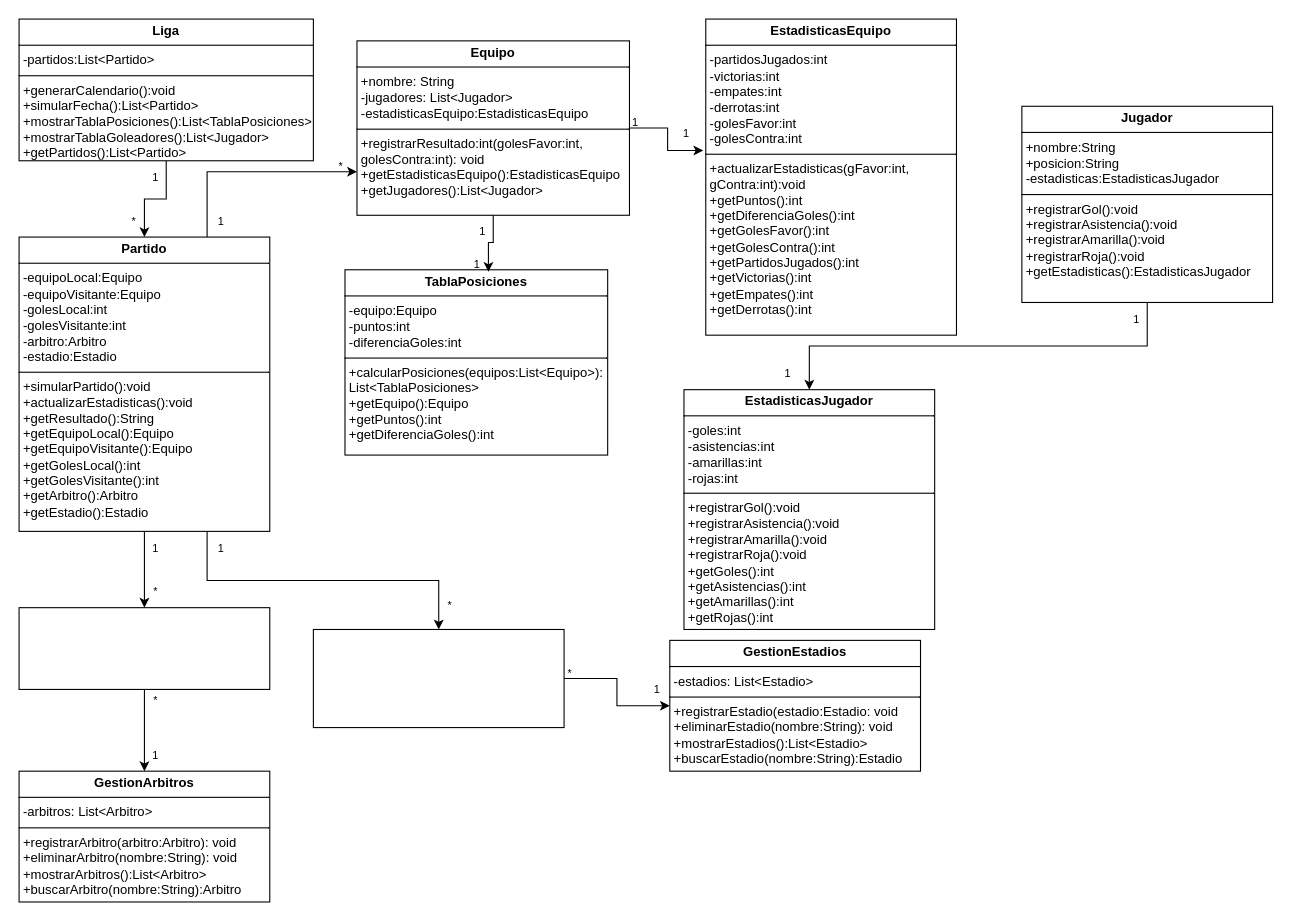
The diagram is 1292 pixels wide and 921 high, and some of its shapes have lost their labels. The shapes that lost their labels are listed below. From the top down, each one's box as (x1, y1, x2, y2) in pixels, then its label:
(18, 607, 270, 689): Arbitro +nombre: String
(312, 628, 564, 728): Estadio +nombre: String +ciudad: String +capacidad: int
